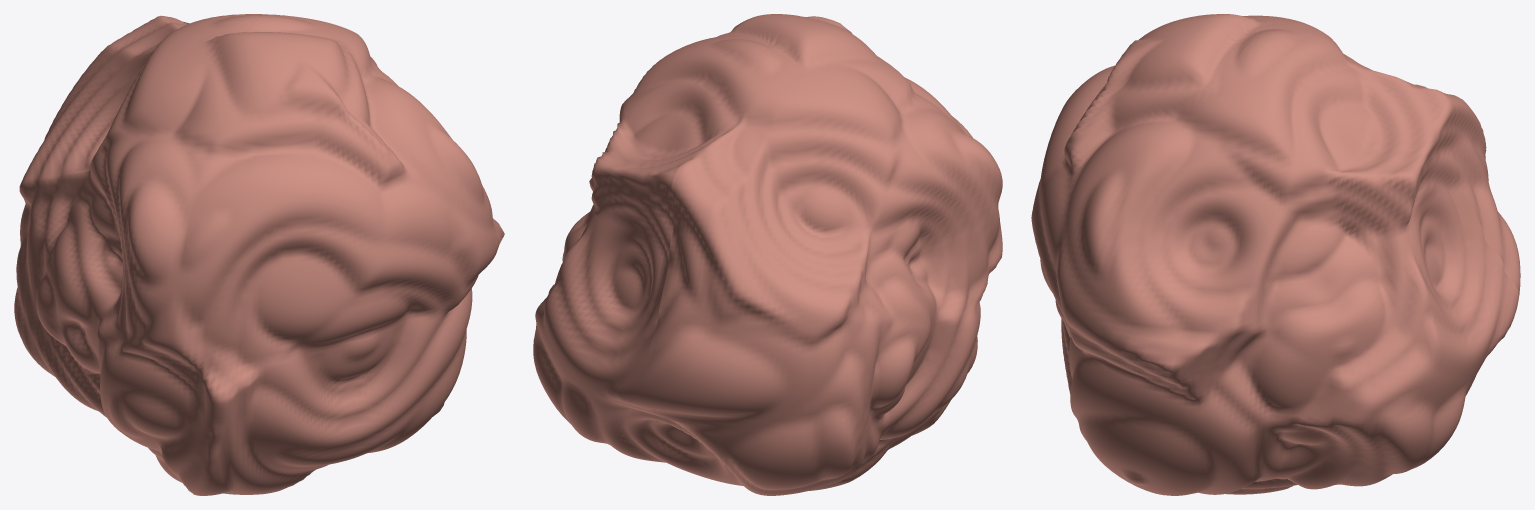
The model's file is Relic01.fbx.
The picture shows the model from 3 angles, left to right: view 1: azimuth 30°, elevation 25°; view 2: azimuth 150°, elevation 25°; view 3: azimuth 270°, elevation 25°; orthographic projection. The views are drawn at different scales.
Parts seen in each view (by area): view 1: Relic01; view 2: Relic01; view 3: Relic01.
Boxes of the visible parts, box(x1,y1,x2,y2) form: Relic01: box(14, 14, 504, 495); Relic01: box(533, 14, 1002, 495); Relic01: box(1031, 14, 1520, 495).
Bounding box in the file's own units: 1155 × 1295 × 1229.
